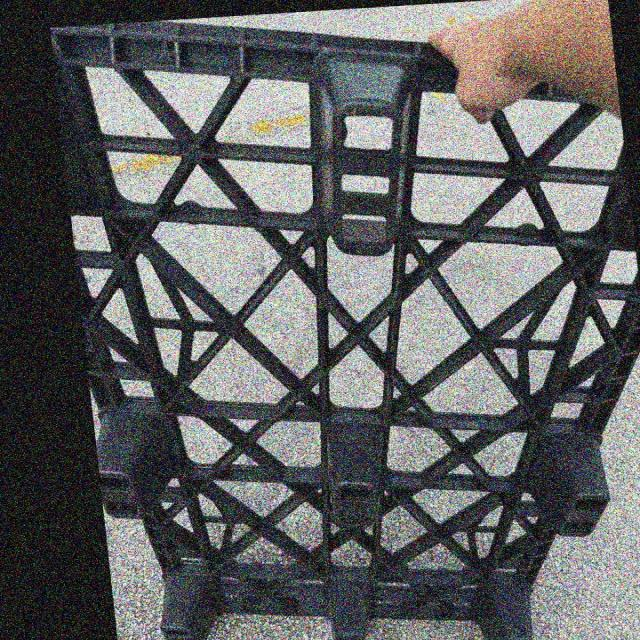non-igps: (42, 17, 640, 640)
